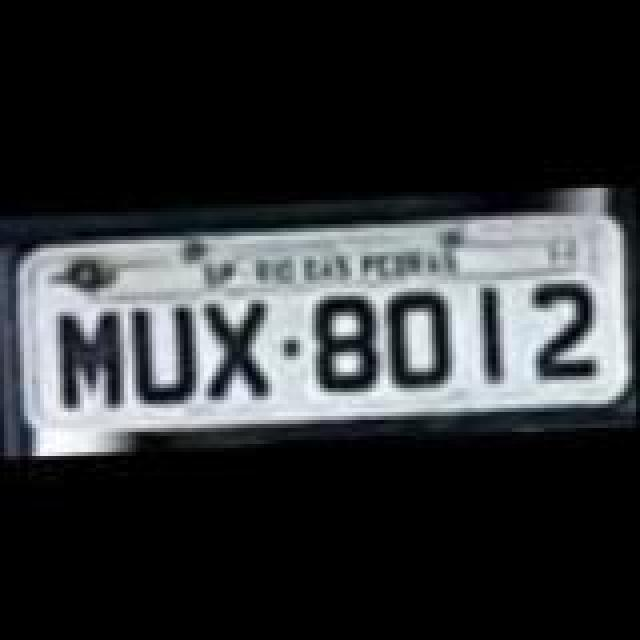1: (468, 278, 512, 386)
2: (524, 280, 600, 384)
8: (304, 292, 380, 396)
K: (198, 292, 278, 400)
M: (50, 306, 130, 414)
O: (384, 284, 452, 392)
U: (126, 298, 206, 410)
